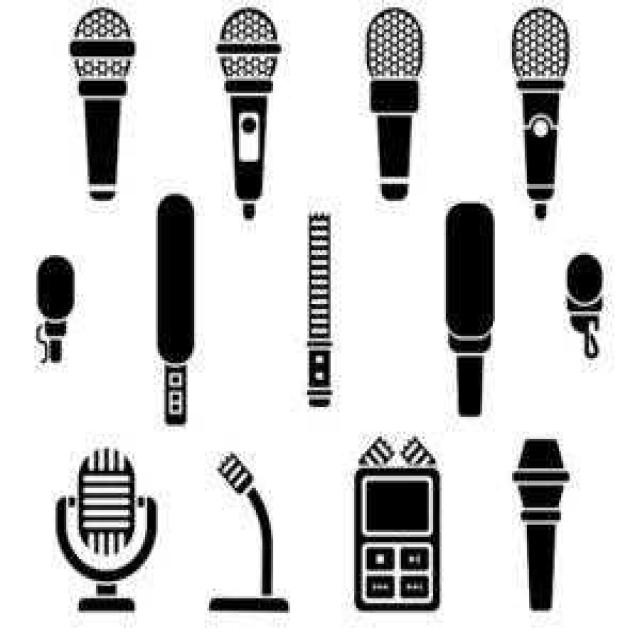microphone: (54, 448, 155, 610), (217, 6, 280, 215), (70, 8, 135, 200), (512, 5, 570, 217), (365, 7, 424, 201), (445, 202, 494, 412), (212, 420, 277, 566), (514, 439, 568, 608), (156, 196, 195, 424), (307, 208, 333, 409), (36, 255, 74, 323), (566, 253, 604, 310)
